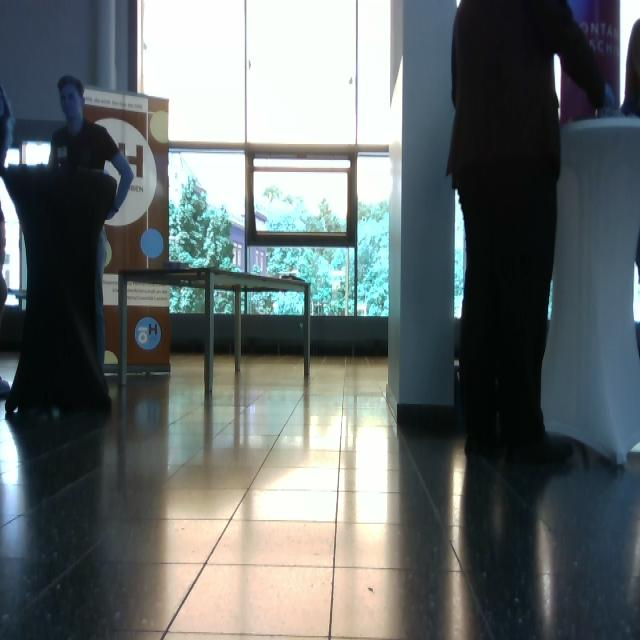light bulb: (140, 228, 164, 260), (23, 141, 52, 166)
person: (446, 1, 610, 465), (47, 76, 135, 378)
pillar: (541, 116, 640, 466), (388, 1, 458, 418)
table: (116, 264, 315, 400)
tiled floor: (2, 351, 639, 639)
window: (137, 1, 393, 322)
